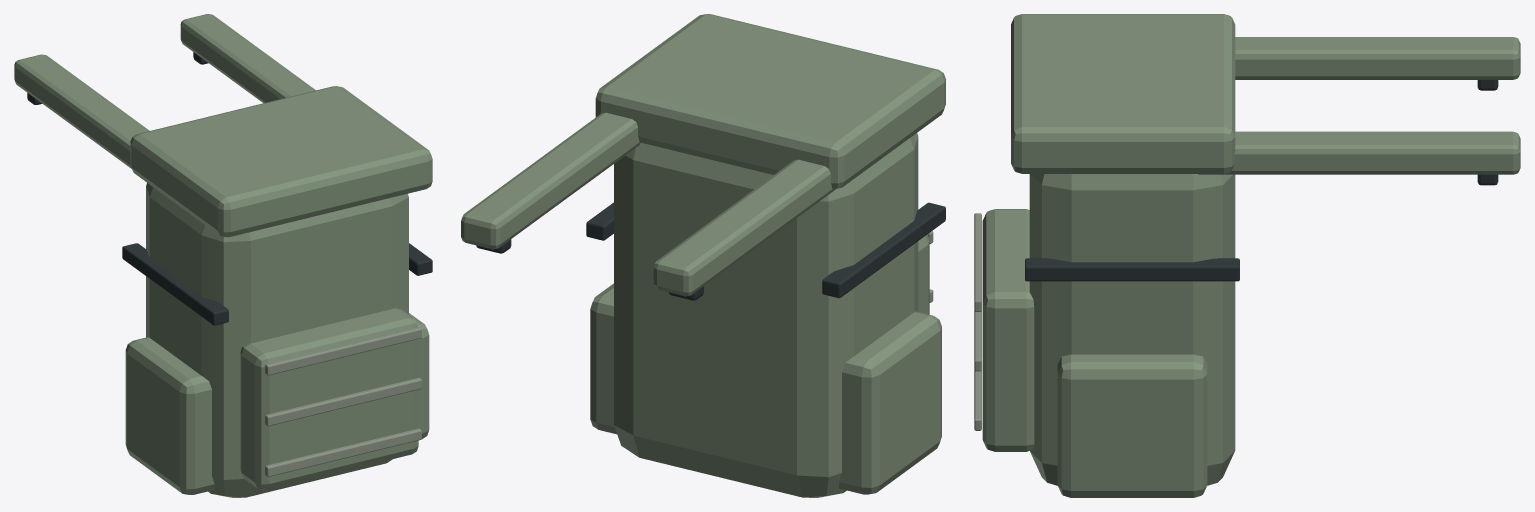
The model's file is backpack_daypack.glb.
3 renders of one model, left to right at view 1: azimuth 30°, elevation 25°; view 2: azimuth 150°, elevation 25°; view 3: azimuth 270°, elevation 25°, orthographic. The views are drawn at different scales.
Parts seen in each view (by area): view 1: backpack_daypack; view 2: backpack_daypack; view 3: backpack_daypack.
Boxes of the visible parts, x1,y1,x2,y2 form: backpack_daypack: [14, 14, 432, 497]; backpack_daypack: [461, 14, 945, 497]; backpack_daypack: [974, 14, 1520, 497].
Bounding box in the file's own units: 0.359 × 0.4455 × 0.584.
